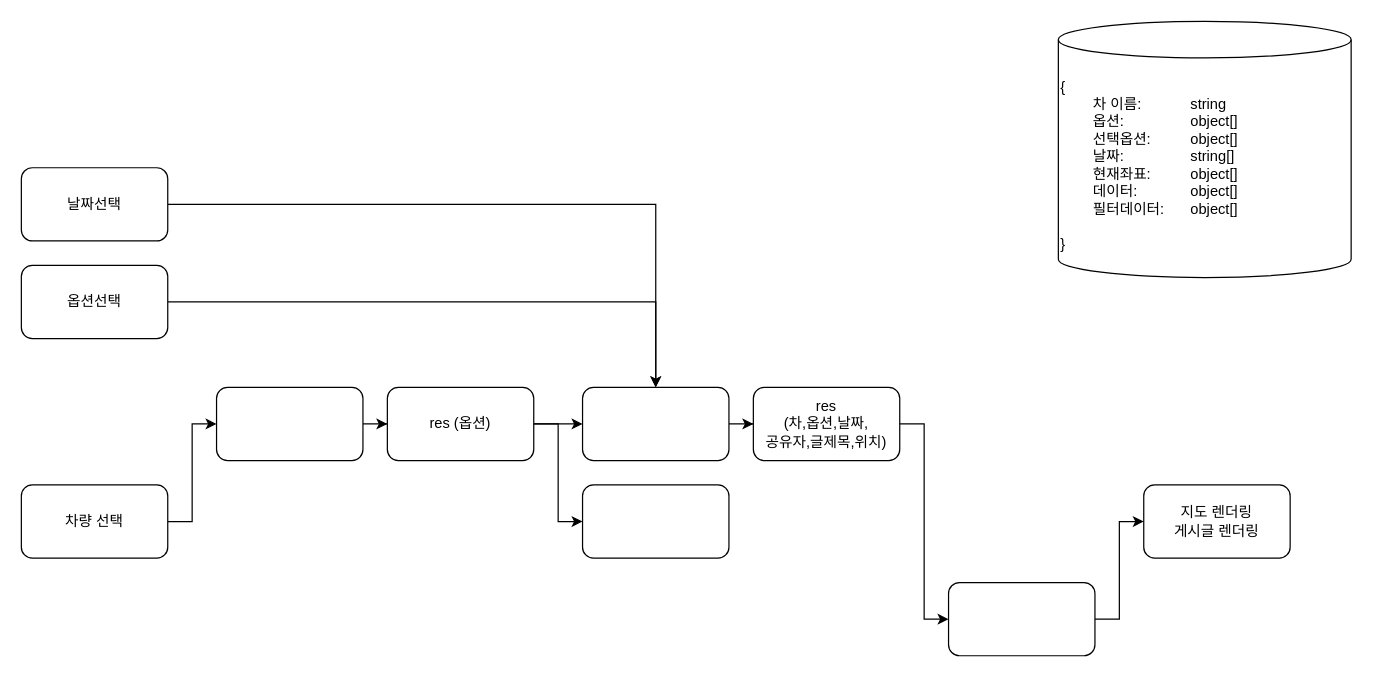
The diagram is 1373 pixels wide and 677 high, and some of its shapes have lost their labels. Here are the shapes that lost their labels. From the top down, the box of each, then its label:
(215, 386, 363, 461): req (차 이름)
(581, 386, 729, 461): req (차,옵션,날짜)
(581, 484, 729, 558): 옵션 렌더링 promise.all
(947, 581, 1095, 656): dispatch 지도 사이즈에 따른 필터링
